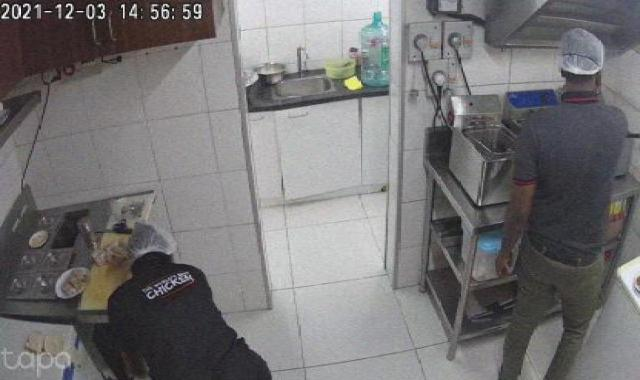hairnet: (550, 25, 610, 88), (110, 220, 180, 262)
